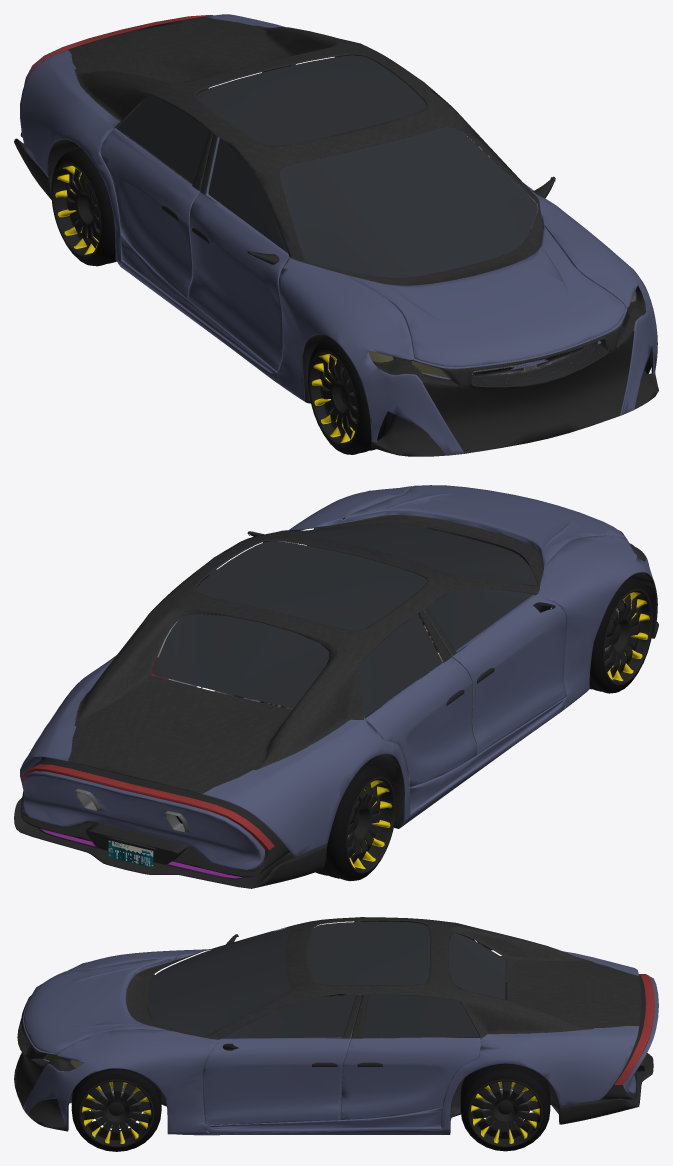
The model's file is nexus_rx.glb.
3 views of the same model, one above another, from view 1: azimuth 30°, elevation 25°; view 2: azimuth 150°, elevation 25°; view 3: azimuth 270°, elevation 25° (orthographic). The views are drawn at different scales.
Parts seen in each view (by area): view 1: Body_low, Windows_low, Front Door_low, Rear Door_low, Rim RR_low, Rim FR_low, Tire RR_low, Tire FR_low, Headlight_low, Rear Lights Cover_low; view 2: Body_low, Windows_low, Front Door_low, Rear Door_low, Rim FR_low, Rim RR_low, Rear Lights Cover_low, Tire RR_low, Tire FR_low, License Plate Rear_low; view 3: Body_low, Windows_low, Front Door_low, Rear Door_low, Rim RL_low, Rim FL_low, Tire RL_low, Tire FL_low, Rear Lights Cover_low.
Part boxes in pixels (left/top/right/bottom): Body_low: left=14, top=14, right=658, bottom=456; Windows_low: left=118, top=55, right=537, bottom=277; Front Door_low: left=188, top=133, right=556, bottom=371; Rear Door_low: left=100, top=128, right=199, bottom=298; Rim RR_low: left=51, top=162, right=101, bottom=258; Rim FR_low: left=308, top=350, right=358, bottom=447; Tire RR_low: left=51, top=148, right=116, bottom=266; Tire FR_low: left=308, top=338, right=390, bottom=454; Headlight_low: left=369, top=290, right=638, bottom=379; Rear Lights Cover_low: left=24, top=15, right=212, bottom=84; Body_low: left=14, top=485, right=658, bottom=888; Windows_low: left=153, top=523, right=537, bottom=716; Front Door_low: left=209, top=531, right=566, bottom=754; Rear Door_low: left=109, top=621, right=476, bottom=786; Rim FR_low: left=603, top=588, right=653, bottom=685; Rim RR_low: left=346, top=777, right=395, bottom=873; Rear Lights Cover_low: left=22, top=764, right=274, bottom=878; Tire RR_low: left=315, top=763, right=396, bottom=881; Tire FR_low: left=589, top=576, right=653, bottom=693; License Plate Rear_low: left=108, top=840, right=153, bottom=867; Body_low: left=14, top=917, right=658, bottom=1135; Windows_low: left=147, top=920, right=505, bottom=1038; Front Door_low: left=203, top=921, right=361, bottom=1125; Rear Door_low: left=341, top=1037, right=480, bottom=1119; Rim RL_low: left=468, top=1079, right=542, bottom=1147; Rim FL_low: left=79, top=1079, right=153, bottom=1147; Tire RL_low: left=460, top=1063, right=550, bottom=1151; Tire FL_low: left=71, top=1068, right=161, bottom=1151; Rear Lights Cover_low: left=614, top=974, right=654, bottom=1084.
Bounding box in the file's own units: 1.9 × 1.16 × 4.58.
Materials: 5 (3 with a texture image).
